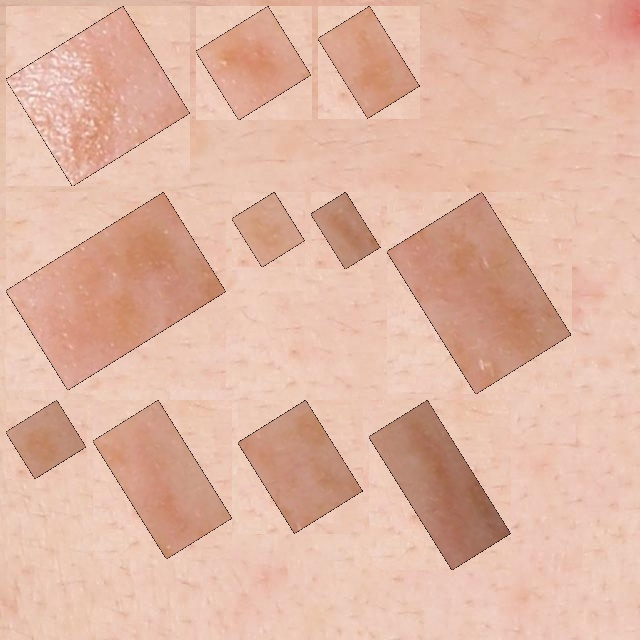melasma: (17, 203, 215, 379), (398, 203, 560, 383), (17, 17, 179, 175), (380, 411, 500, 559), (104, 411, 221, 548), (249, 411, 352, 522), (207, 17, 300, 109), (329, 17, 409, 107), (17, 411, 75, 467), (243, 203, 294, 256), (322, 203, 369, 258)
